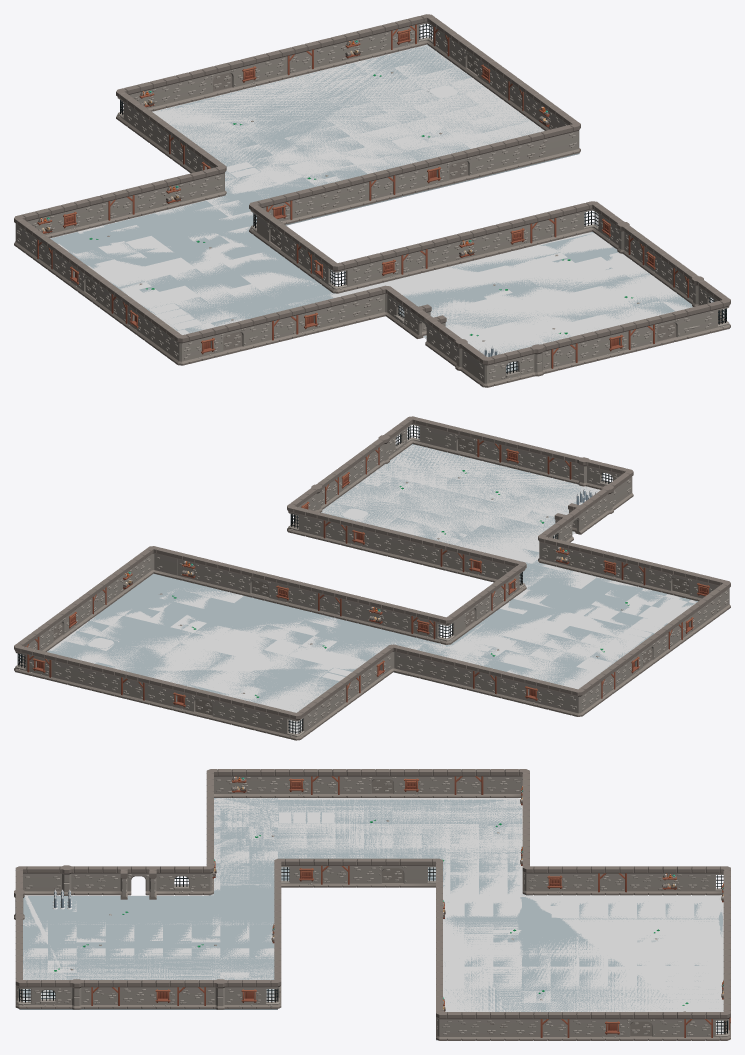
The model's file is Map_04.fbx.
3 renders of one model, top to bottom at view 1: azimuth 30°, elevation 25°; view 2: azimuth 150°, elevation 25°; view 3: azimuth 270°, elevation 25°, orthographic. The views are drawn at different scales.
Parts seen in each view (by area): view 1: SM_World_01_Wall.034, EnemyAI_Hide, Grounddd; view 2: SM_World_01_Wall.034, EnemyAI_Hide, Grounddd; view 3: EnemyAI_Hide, Grounddd, SM_World_01_Wall.034.
Part boxes in pixels (<box>): SM_World_01_Wall.034: <box>14,14,730,387</box>; EnemyAI_Hide: <box>50,45,692,371</box>; Grounddd: <box>51,45,730,371</box>; SM_World_01_Wall.034: <box>14,416,730,740</box>; EnemyAI_Hide: <box>25,445,696,733</box>; Grounddd: <box>47,444,697,709</box>; EnemyAI_Hide: <box>23,798,723,1033</box>; Grounddd: <box>19,798,722,1040</box>; SM_World_01_Wall.034: <box>14,769,730,1040</box>.
Size of what is drawn, in the model's own units: 81 by 99.85 by 5.03.
